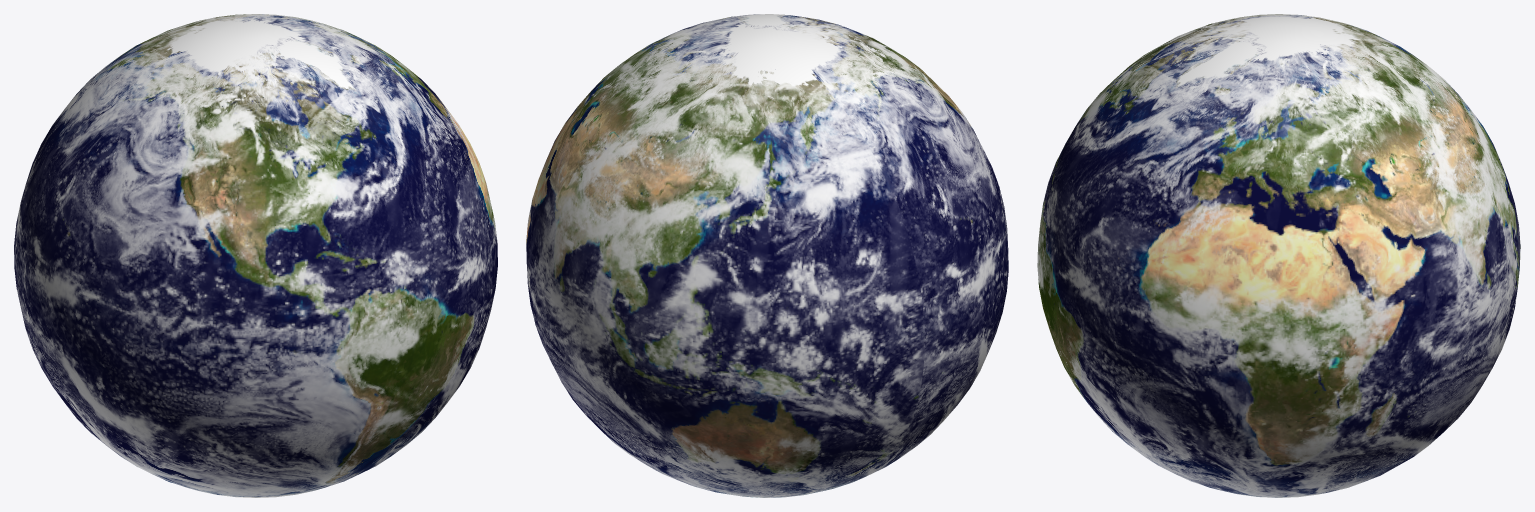
File: globe.glb
The picture shows the model from 3 angles, left to right: view 1: azimuth 30°, elevation 25°; view 2: azimuth 150°, elevation 25°; view 3: azimuth 270°, elevation 25°; orthographic projection.
Visible parts, largest first — view 1: Globe.001; view 2: Globe.001; view 3: Globe.001.
Part boxes in pixels (x1=…): Globe.001: x1=14, y1=14, x2=497, y2=497; Globe.001: x1=526, y1=14, x2=1008, y2=497; Globe.001: x1=1037, y1=14, x2=1520, y2=497.
Size of the model in its own units: 6.01 by 6.03 by 6.02.
1 material, 1 textured.
